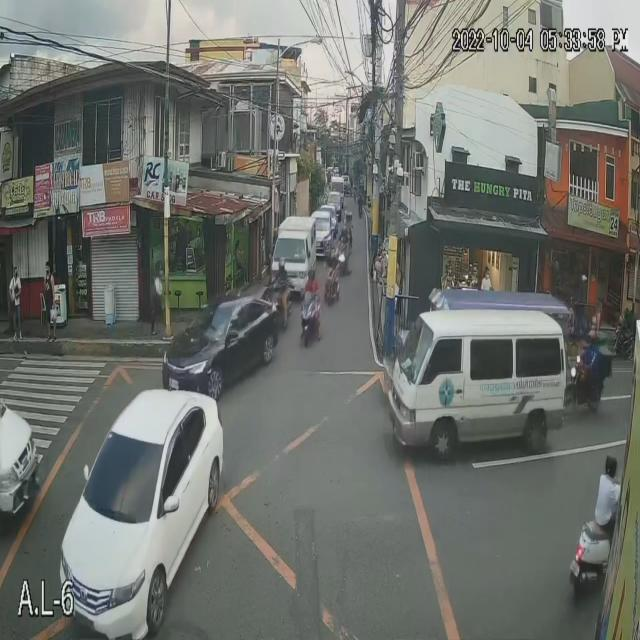half: (603, 453, 620, 481)
